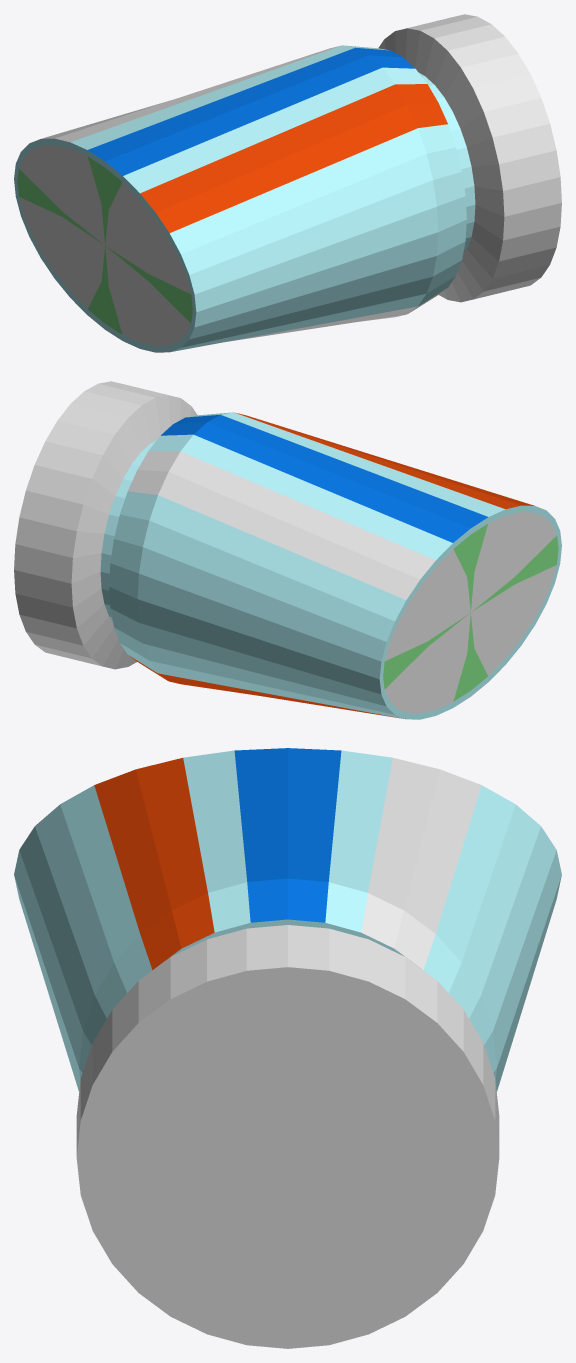
Rendered from ToothpasteRight.fbx.
3 views of the same model, one above another, from view 1: azimuth 30°, elevation 25°; view 2: azimuth 150°, elevation 25°; view 3: azimuth 270°, elevation 25° (orthographic). The views are drawn at different scales.
Visible parts, largest first — view 1: Цилиндр.002; view 2: Цилиндр.002; view 3: Цилиндр.002.
Part boxes in pixels (bbox=[...]): Цилиндр.002: bbox=[14, 14, 561, 352]; Цилиндр.002: bbox=[14, 381, 561, 719]; Цилиндр.002: bbox=[14, 748, 561, 1348].
Size of the model in its own units: 292 by 184 by 239.
